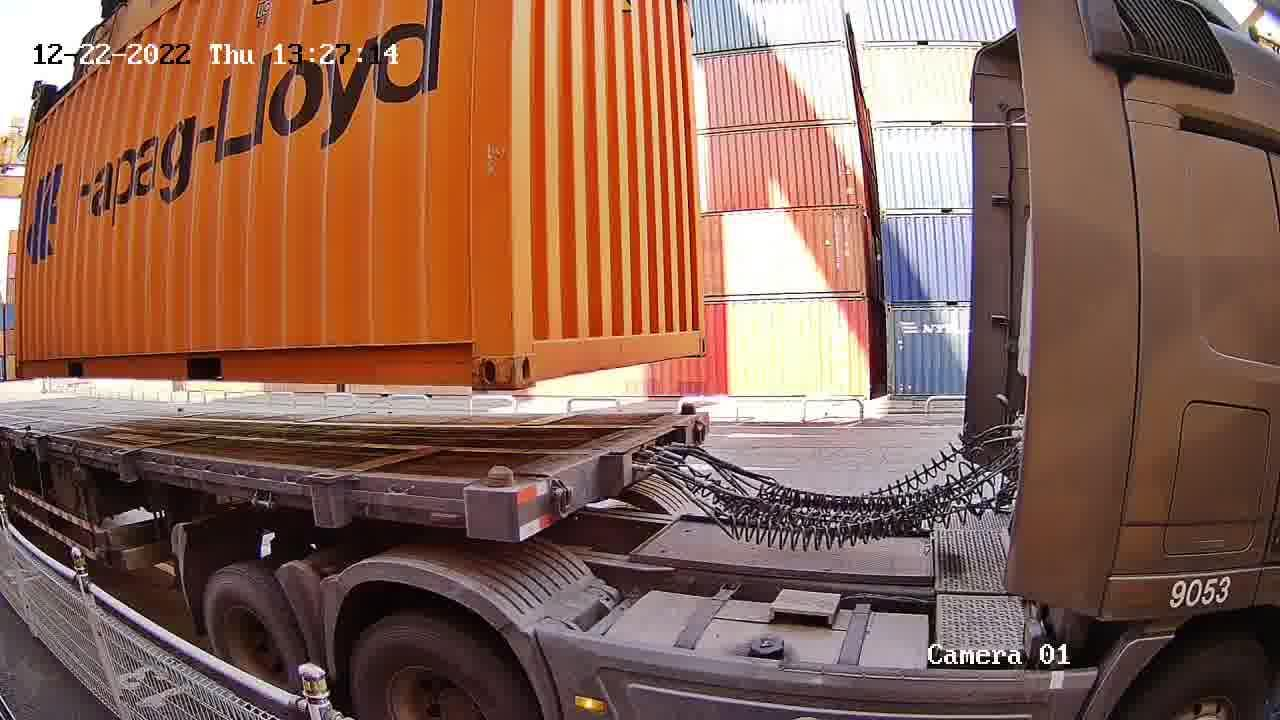Chassis: (470, 410, 707, 545)
Cone: (473, 462, 518, 545), (673, 400, 703, 423)
Hole_L: (511, 319, 558, 387)
Hole_R: (442, 318, 514, 388), (678, 313, 710, 356)
Tire: (351, 621, 537, 716), (204, 572, 301, 682)
